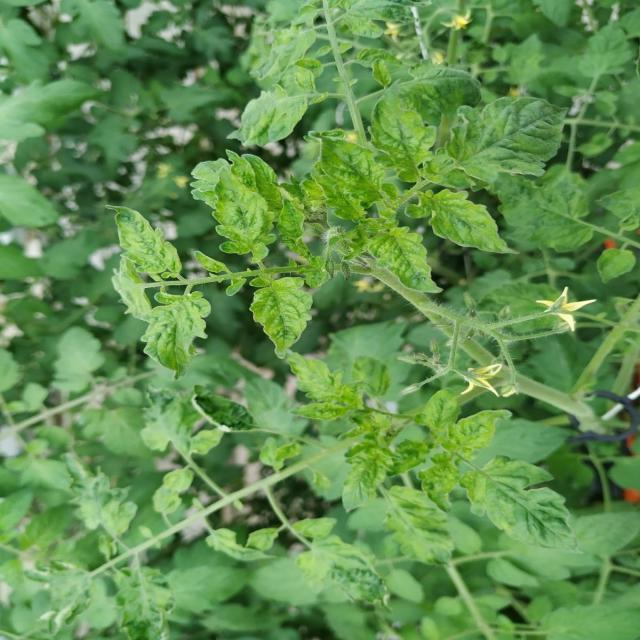T_F_H: (538, 289, 596, 332), (463, 365, 503, 397)
T_L_R: (461, 457, 578, 551), (446, 99, 566, 182), (408, 190, 513, 253), (371, 91, 438, 184), (141, 292, 211, 380), (213, 169, 276, 263), (107, 206, 181, 278), (316, 136, 386, 209), (250, 278, 312, 358), (369, 229, 441, 294), (443, 411, 511, 460)
